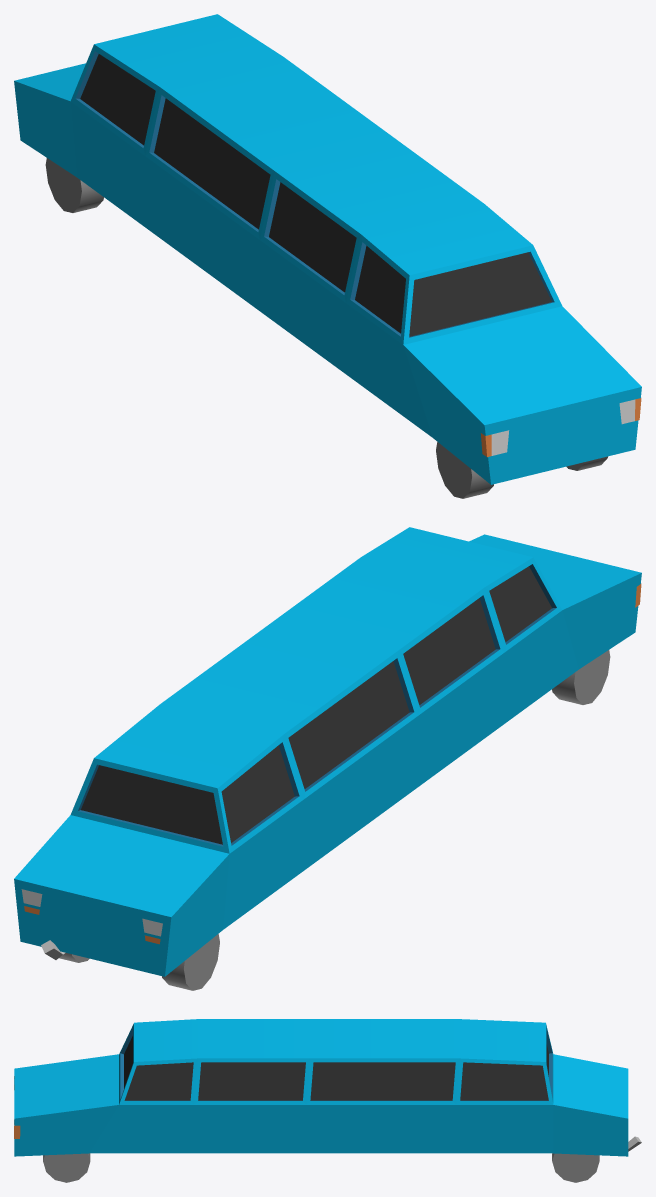
The model's file is limo_03.fbx.
The picture shows the model from 3 angles, top to bottom: view 1: azimuth 30°, elevation 25°; view 2: azimuth 150°, elevation 25°; view 3: azimuth 270°, elevation 25°; orthographic projection. The views are drawn at different scales.
Parts seen in each view (by area): view 1: limo_03; view 2: limo_03; view 3: limo_03.
Boxes of the visible parts, x1,y1,x2,y2 form: limo_03: [14, 14, 641, 498]; limo_03: [14, 527, 641, 990]; limo_03: [14, 1019, 641, 1182].
Bounding box in the file's own units: 1.6 × 1.8 × 8.39.
